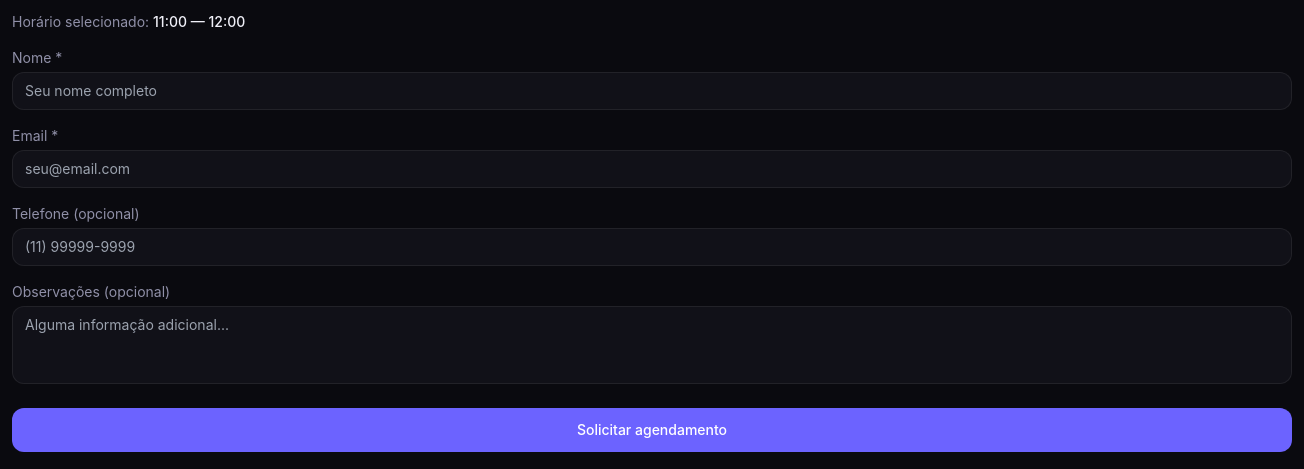
Test: AppointmentForm › submete dados e exibe requestCode após sucesso
Step 1. Type "João Silva" into the field labelled "Nome *" → (652, 91), box left=12, top=72, right=1292, bottom=110
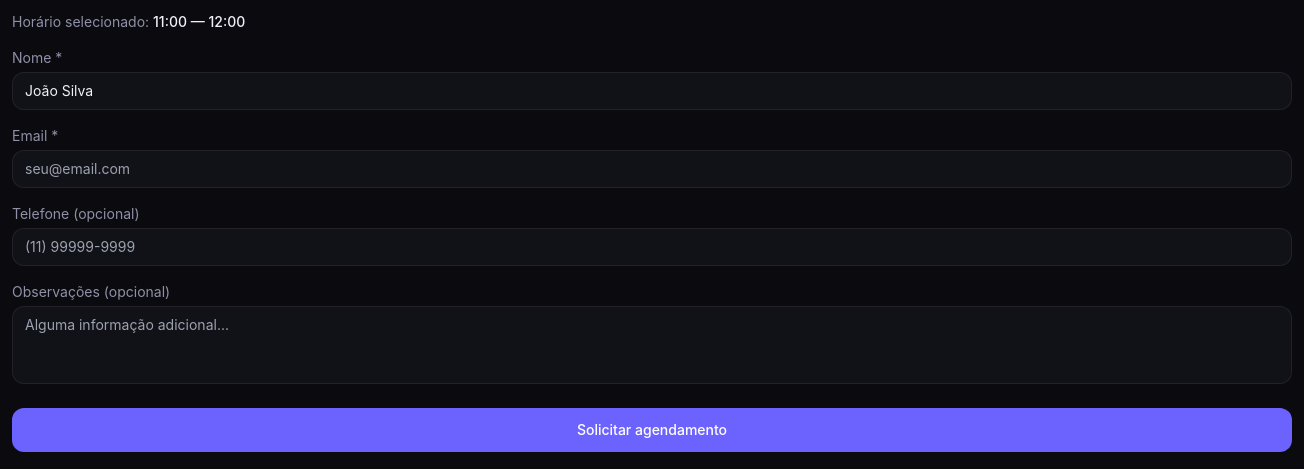
Step 2. Type "joao@test.com" into the field labelled "Email *" → (652, 169), box left=12, top=150, right=1292, bottom=188
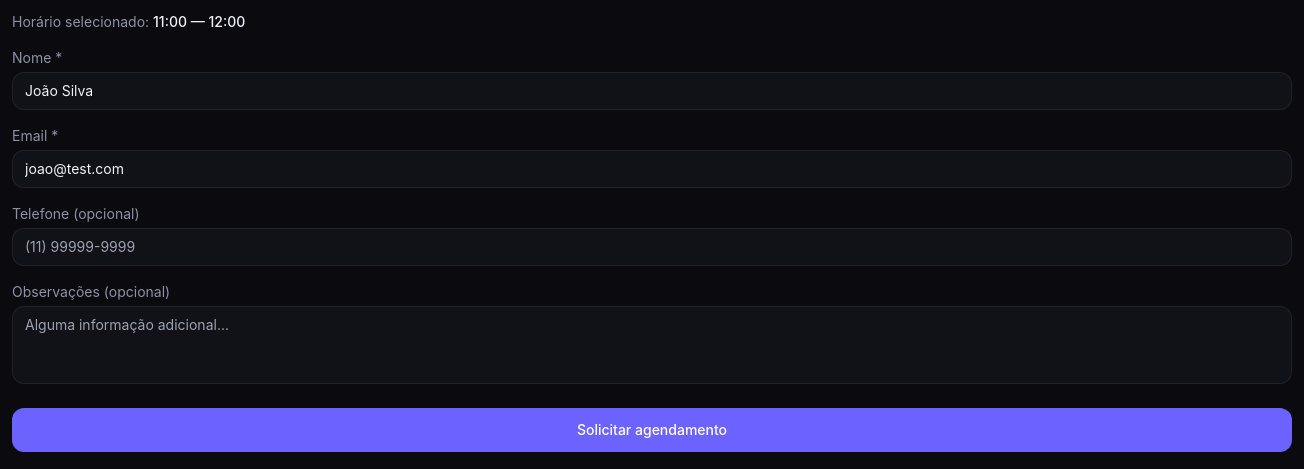
Step 3. Click the button "Solicitar agendamento" → (652, 430), box left=12, top=408, right=1292, bottom=452
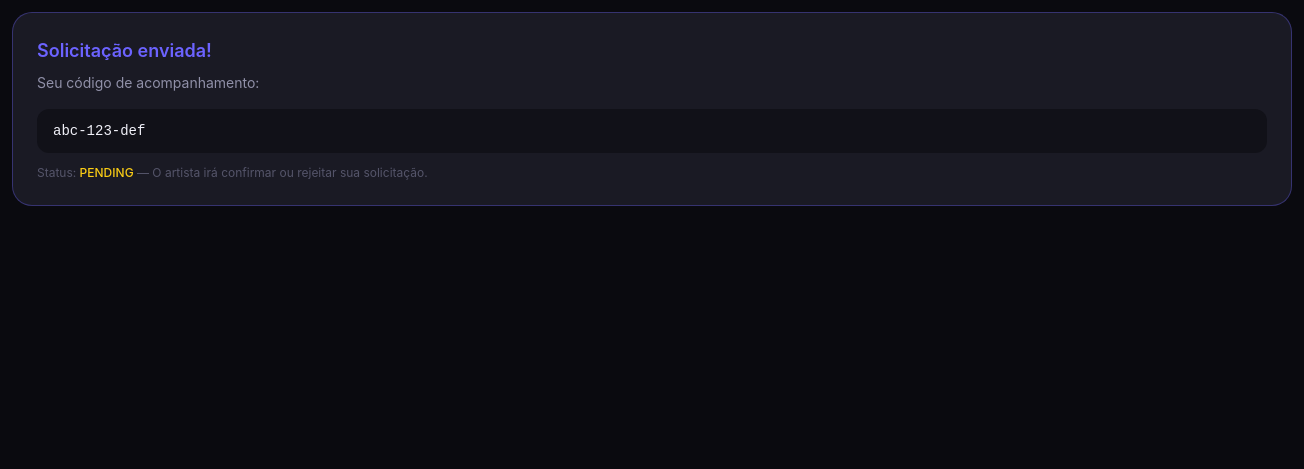
Check: the text "abc-123-def" is shown, box left=37, top=109, right=1267, bottom=153
Check: the text "PENDING" is shown, box left=80, top=165, right=134, bottom=180
